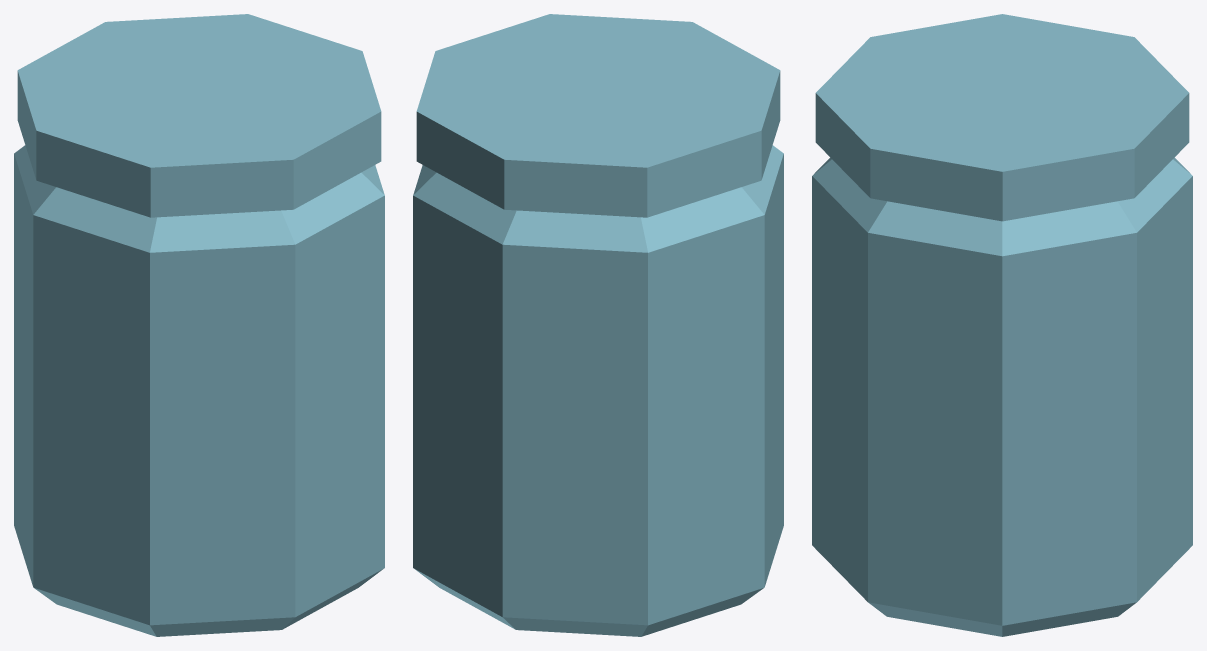
Rendered from jar.obj.
3 views of the same model, side by side, from view 1: azimuth 30°, elevation 25°; view 2: azimuth 150°, elevation 25°; view 3: azimuth 270°, elevation 25° (orthographic).
Parts seen in each view (by area): view 1: jar_Cylinder.002; view 2: jar_Cylinder.002; view 3: jar_Cylinder.002.
Boxes of the visible parts, bbox=[...] form: jar_Cylinder.002: bbox=[14, 14, 384, 636]; jar_Cylinder.002: bbox=[413, 14, 783, 636]; jar_Cylinder.002: bbox=[812, 14, 1192, 636].
Bounding box in the file's own units: 0.1666 × 0.2294 × 0.1666.
